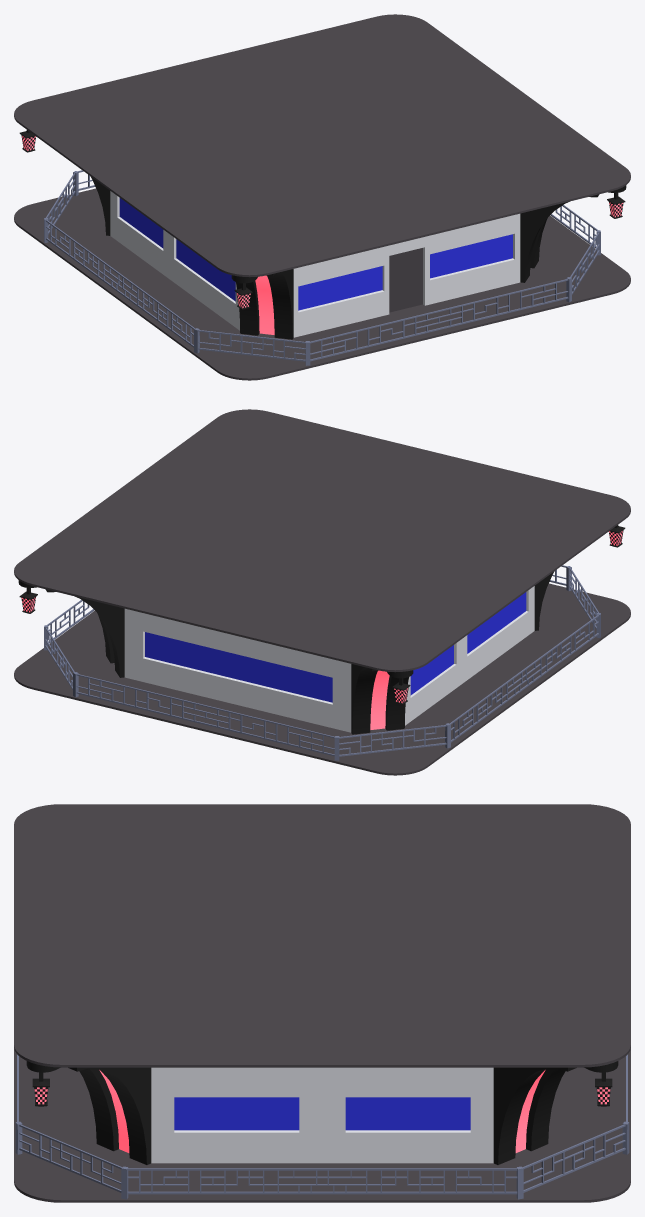
The model's file is SM_B_i7_roof.fbx.
3 renders of one model, top to bottom at view 1: azimuth 30°, elevation 25°; view 2: azimuth 150°, elevation 25°; view 3: azimuth 270°, elevation 25°, orthographic. The views are drawn at different scales.
Parts seen in each view (by area): view 1: SM_B_i7_roof; view 2: SM_B_i7_roof; view 3: SM_B_i7_roof.
Part boxes in pixels (x1,y1,x2,y2): SM_B_i7_roof: (14, 14, 630, 380); SM_B_i7_roof: (14, 409, 630, 775); SM_B_i7_roof: (14, 804, 630, 1202).
Bounding box in the file's own units: 2100 × 518 × 2100.
